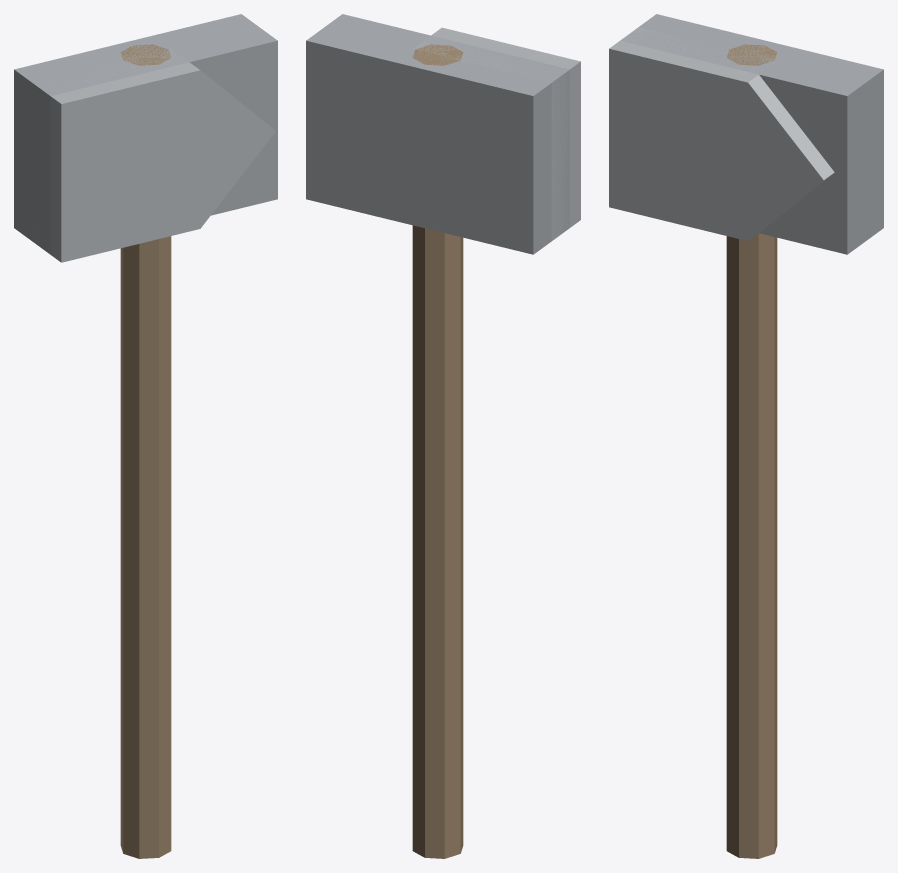
Rendered from hakbijl.glb.
3 views of the same model, side by side, from view 1: azimuth 30°, elevation 25°; view 2: azimuth 150°, elevation 25°; view 3: azimuth 330°, elevation 25° (orthographic).
Parts seen in each view (by area): view 1: world; view 2: world; view 3: world.
Boxes of the visible parts, bbox=[...] form: world: bbox=[14, 14, 277, 858]; world: bbox=[306, 14, 580, 858]; world: bbox=[609, 14, 883, 858].
Size of the model in its own units: 0.18 by 0.6 by 0.065.
